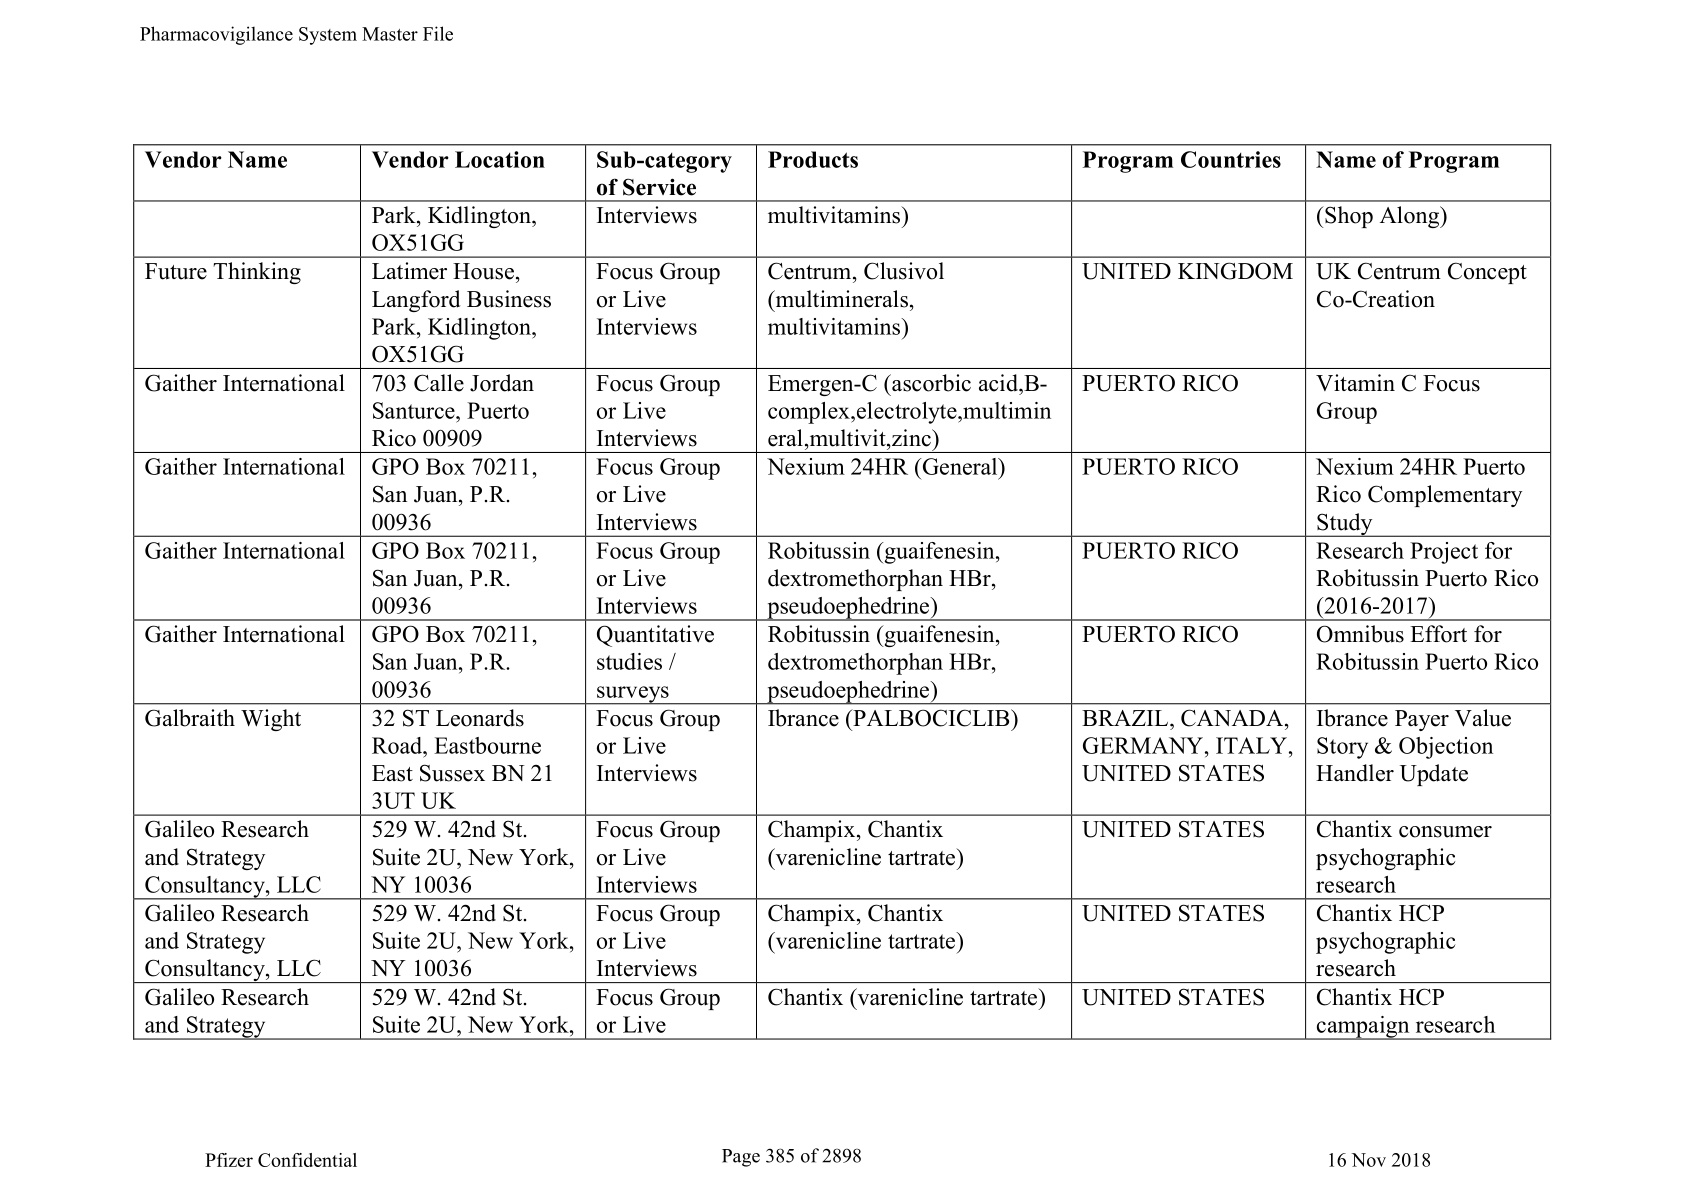full_lined: (133, 143, 1552, 1040)
